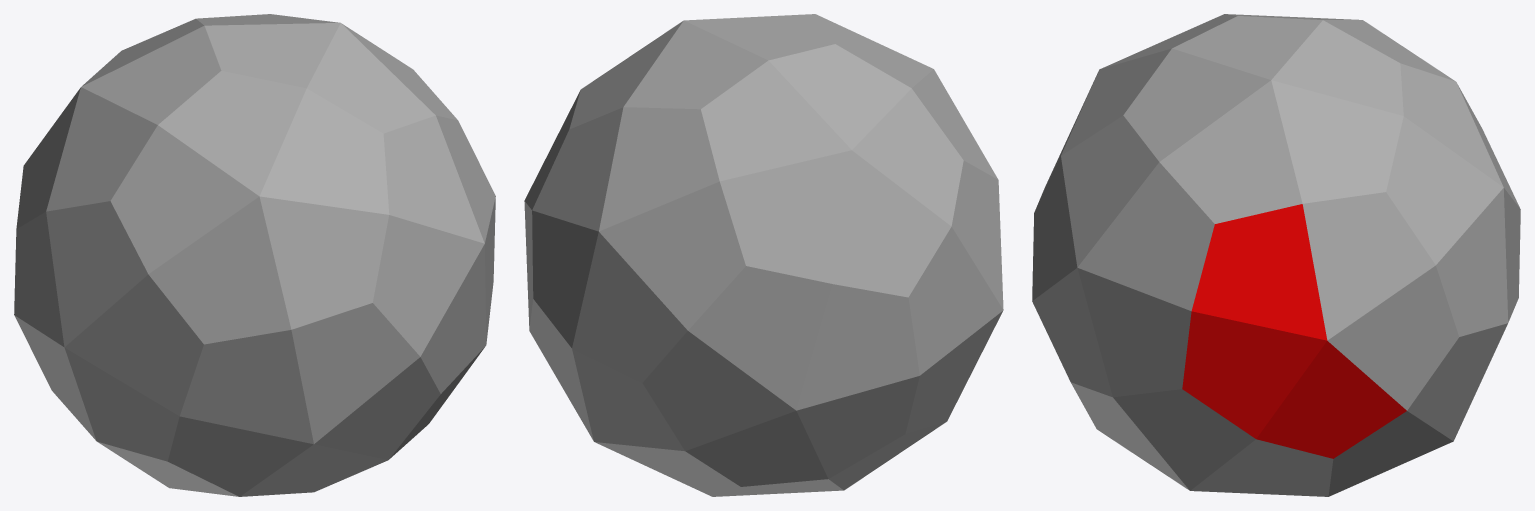
Rendered from polyform_3.glb.
The picture shows the model from 3 angles, left to right: view 1: azimuth 30°, elevation 25°; view 2: azimuth 150°, elevation 25°; view 3: azimuth 270°, elevation 25°; orthographic projection.
Bounding box in the file's own units: 4.48 × 4.36 × 4.35.
